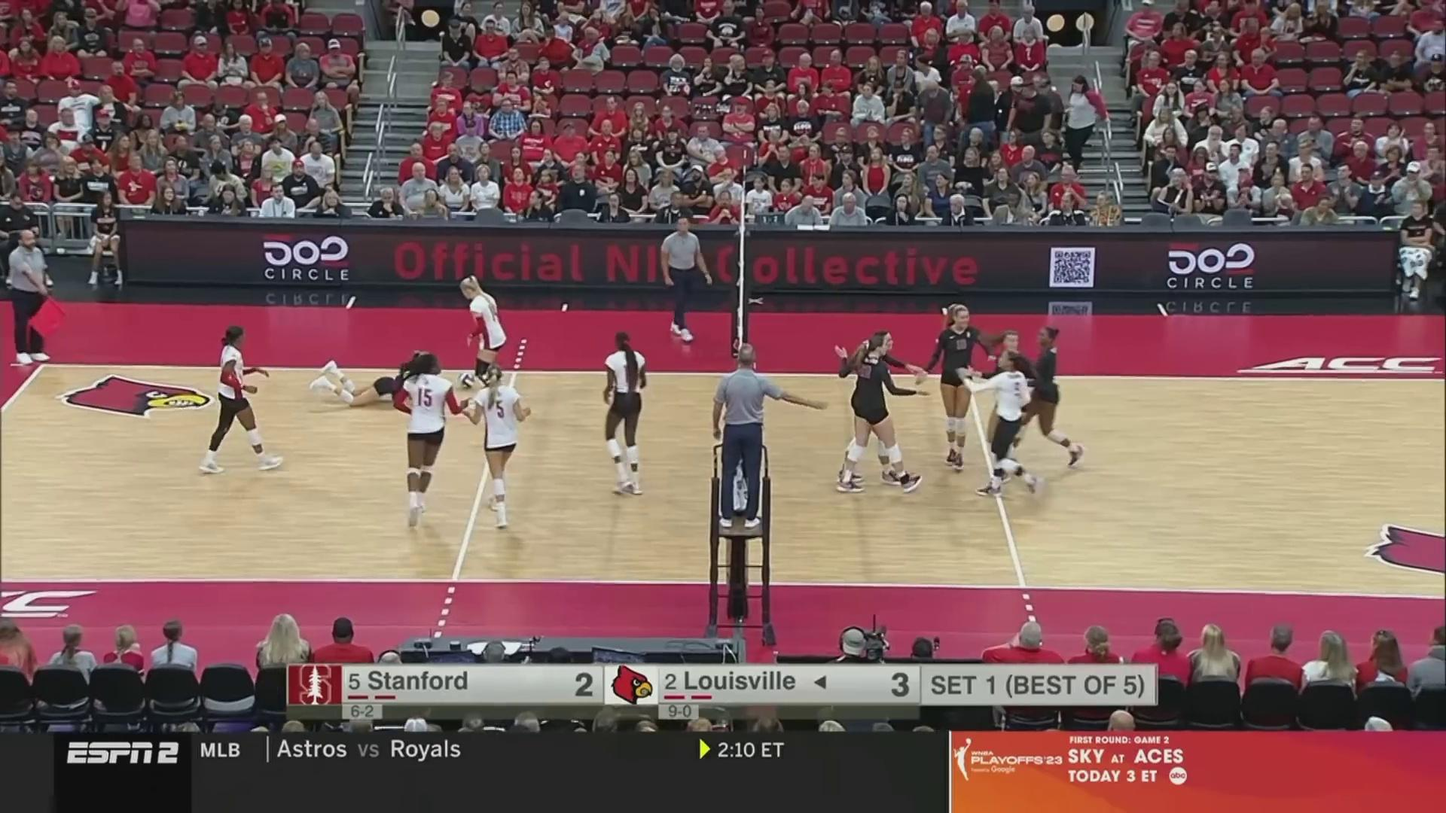player: (834, 330, 924, 492), (393, 356, 470, 525), (195, 327, 278, 475), (842, 333, 918, 493), (964, 344, 1040, 497), (1006, 327, 1082, 470), (448, 279, 522, 424), (929, 301, 994, 466), (468, 369, 529, 531), (985, 327, 1043, 478), (600, 336, 653, 497), (314, 353, 447, 411)
refree: (712, 344, 808, 522), (0, 229, 57, 367), (657, 219, 712, 341)
